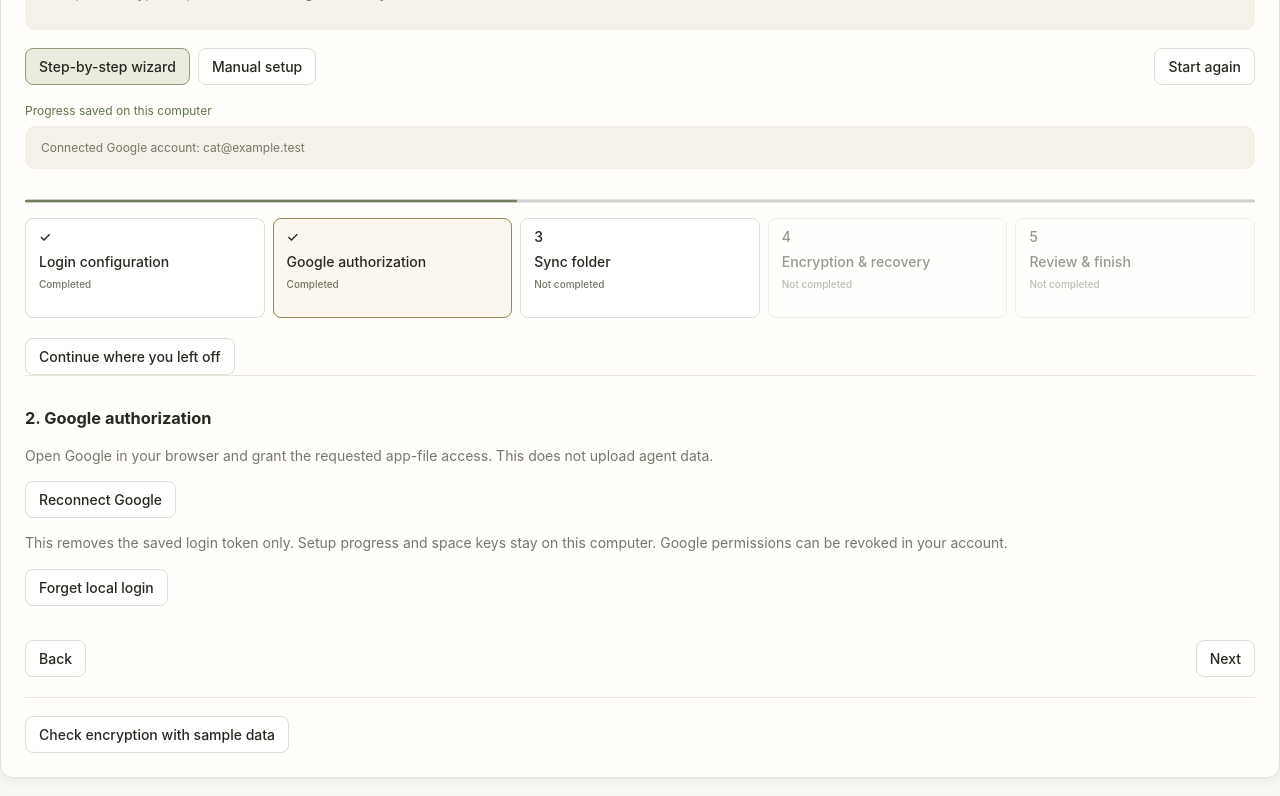
Scenario: distinguishes saved identity from connected identity and refreshes after account mismatch
The image size is (1280, 796).
(page scrolled)
Click the button "Reconnect Google" at (101, 500), box [25,481,176,518]
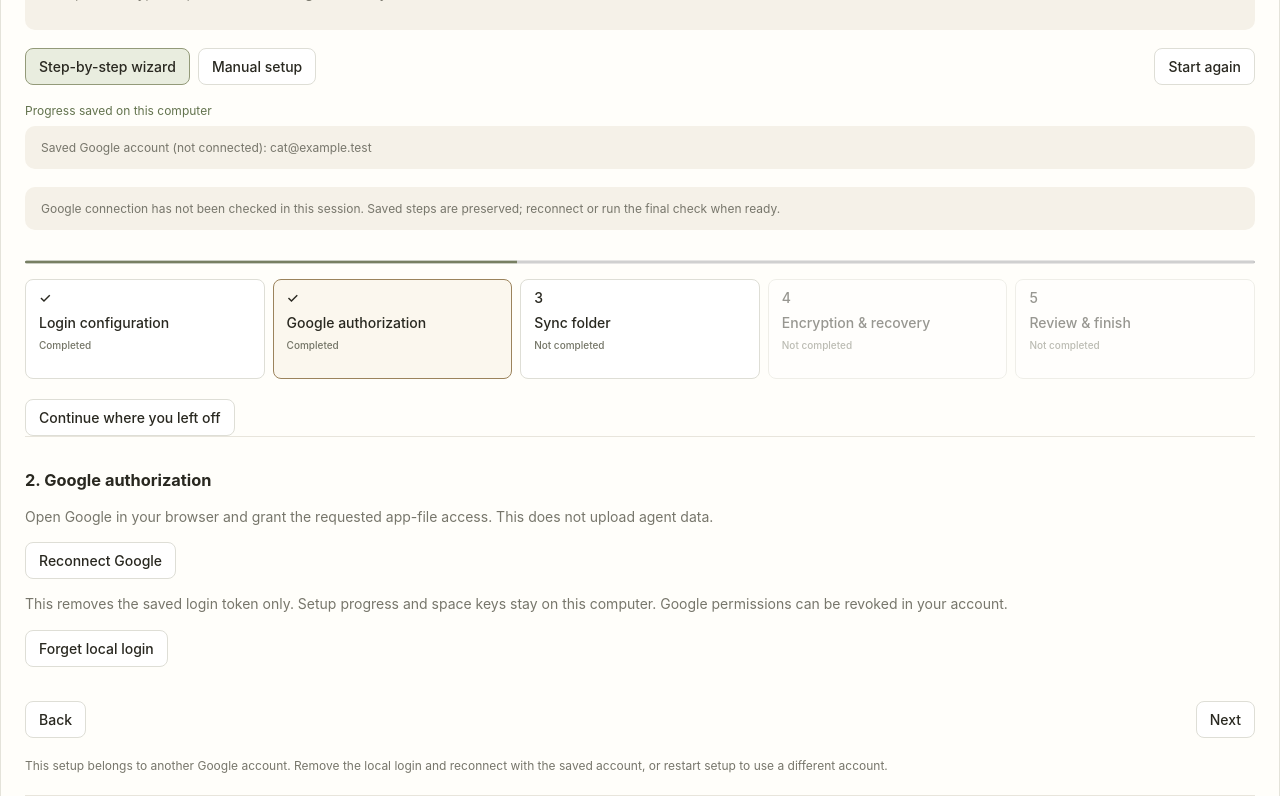
expect the text "This setup belongs to another Google account. Remove the local login and reconnect with the saved account, or restart se" is shown: met, box [25,758,888,773]
